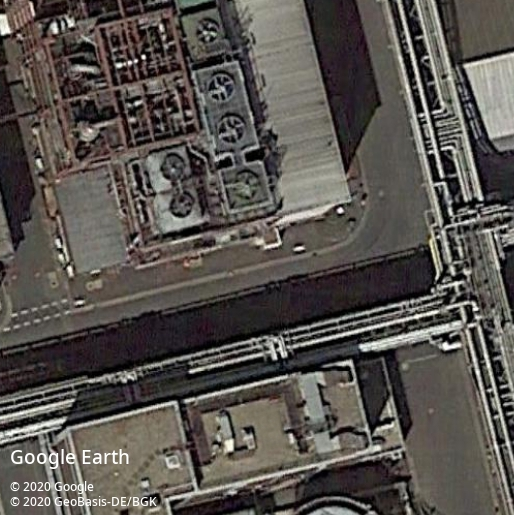Vent: (232, 171, 262, 201), (205, 73, 235, 102), (216, 114, 245, 144), (159, 155, 186, 181), (168, 193, 195, 219), (194, 18, 220, 44)
